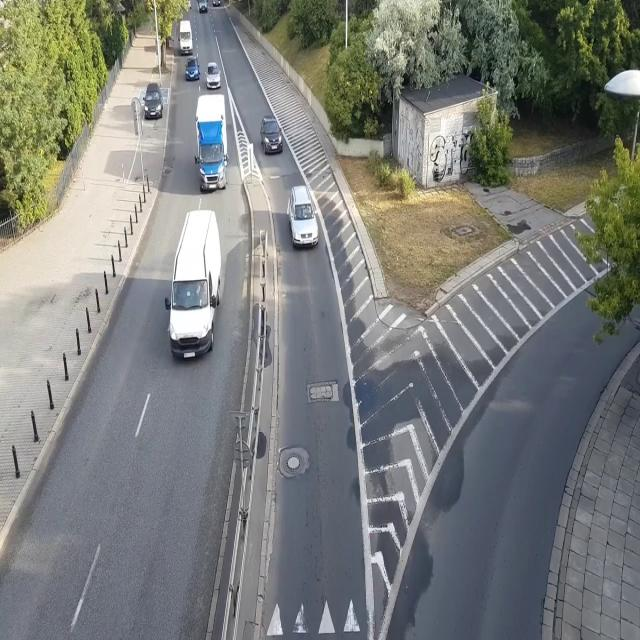car: (287, 184, 319, 250), (260, 115, 284, 155), (143, 82, 163, 120), (204, 62, 221, 90), (184, 56, 201, 82), (198, 0, 208, 14), (212, 0, 221, 7)
truck: (194, 93, 229, 193)
van: (164, 210, 222, 362), (178, 21, 194, 56)
